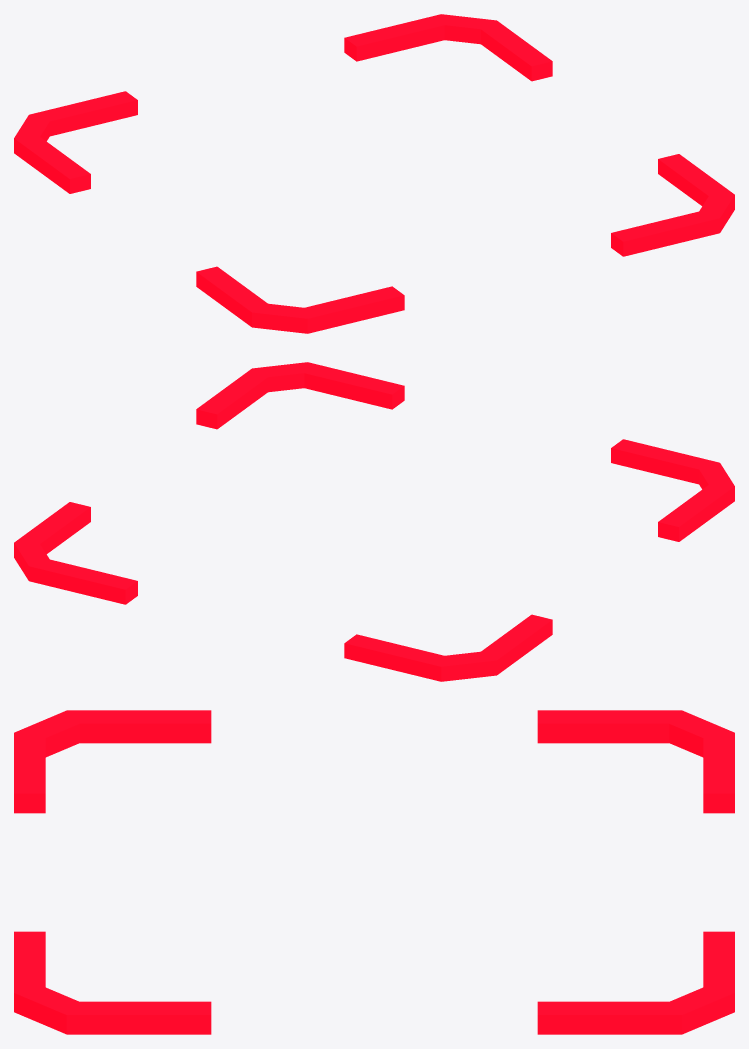
File: Sci Fi Platform Marker.fbx
3 views of the same model, one above another, from view 1: azimuth 30°, elevation 25°; view 2: azimuth 150°, elevation 25°; view 3: azimuth 270°, elevation 25° (orthographic). The views are drawn at different scales.
Visible parts, largest first — view 1: Plane.005; view 2: Plane.005; view 3: Plane.005.
Part boxes in pixels (x1,y1,x2,y2): Plane.005: (14, 14, 734, 333); Plane.005: (14, 362, 734, 681); Plane.005: (14, 710, 734, 1034).
Size of the model in its own units: 169 by 5.03 by 169.
